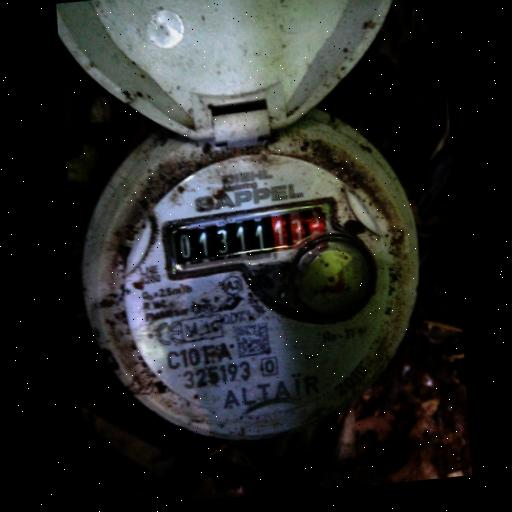0: (173, 228, 197, 266)
1: (231, 219, 252, 258), (250, 216, 271, 254), (194, 225, 214, 263), (270, 213, 289, 252)
3: (286, 210, 308, 249), (212, 222, 233, 260)
5: (306, 204, 325, 241)
border_water_meter_number: (160, 192, 343, 280)
